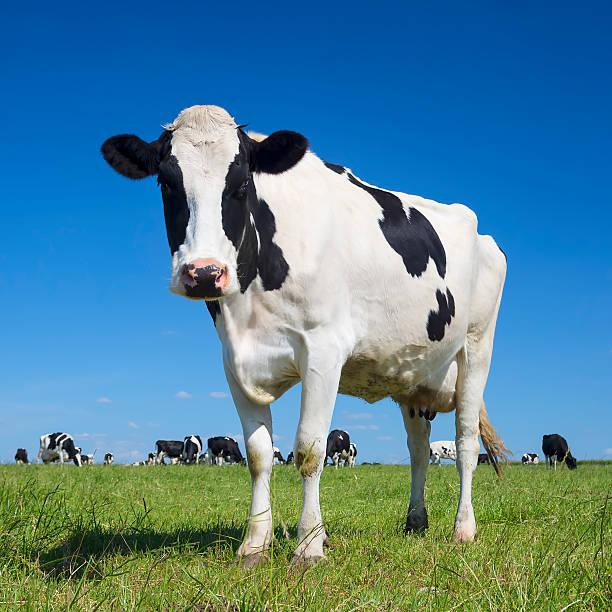muzzles: (164, 254, 245, 308)
